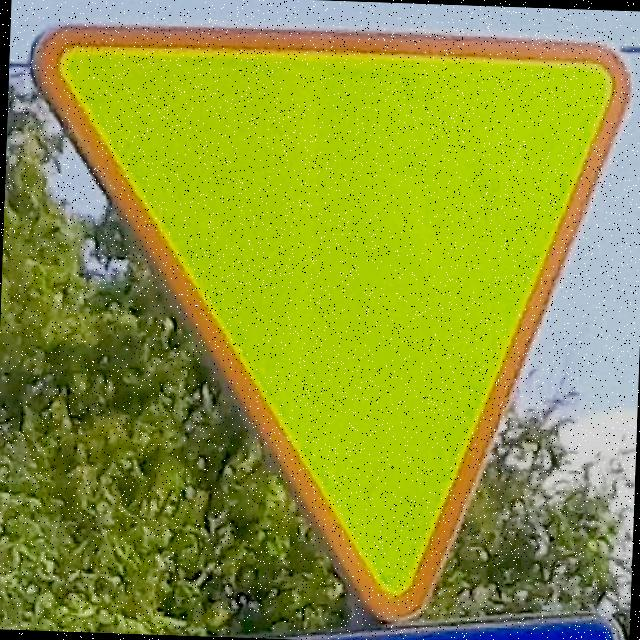Ustap pierwszenstwa: (7, 21, 635, 634)
